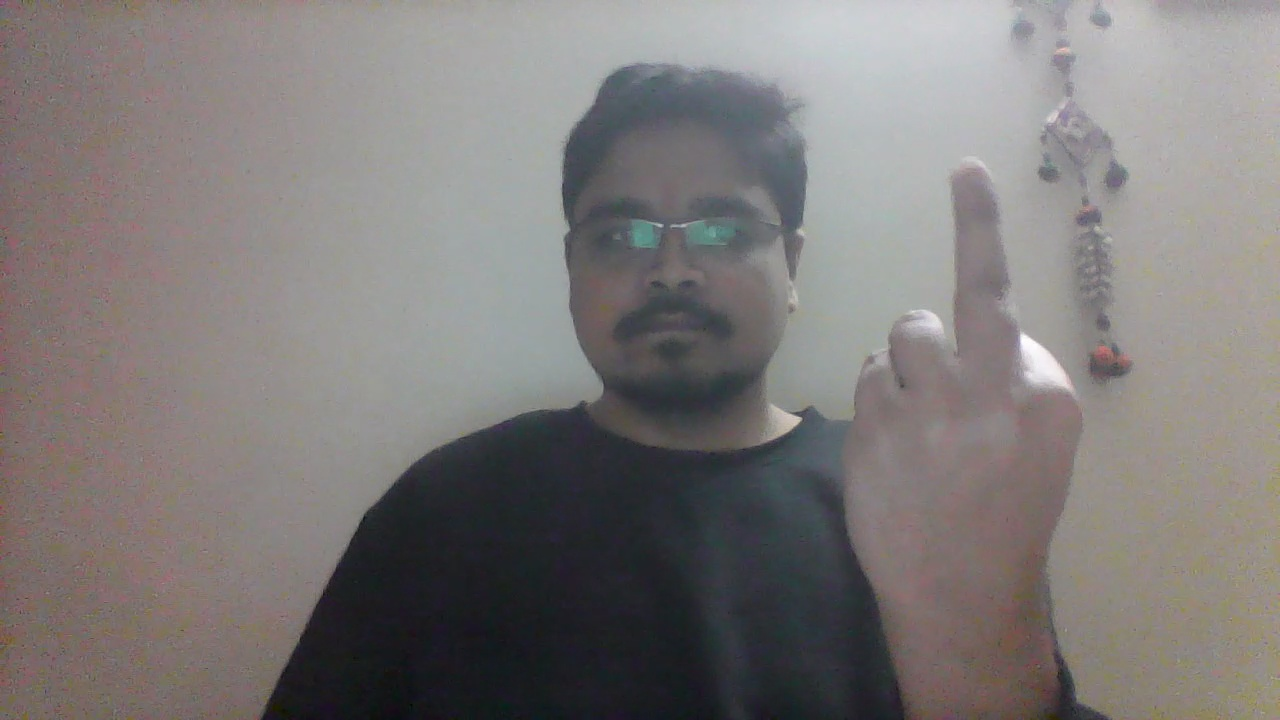Fuck Off: (850, 156, 1090, 657)
